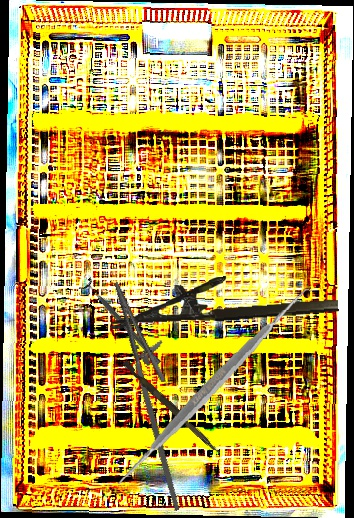Fixation Ring: (77, 276, 167, 370)
Needle Holder: (86, 274, 224, 512), (108, 268, 339, 330)
Pusher: (119, 359, 225, 456)
Spatula Surgical: (103, 276, 322, 497)
